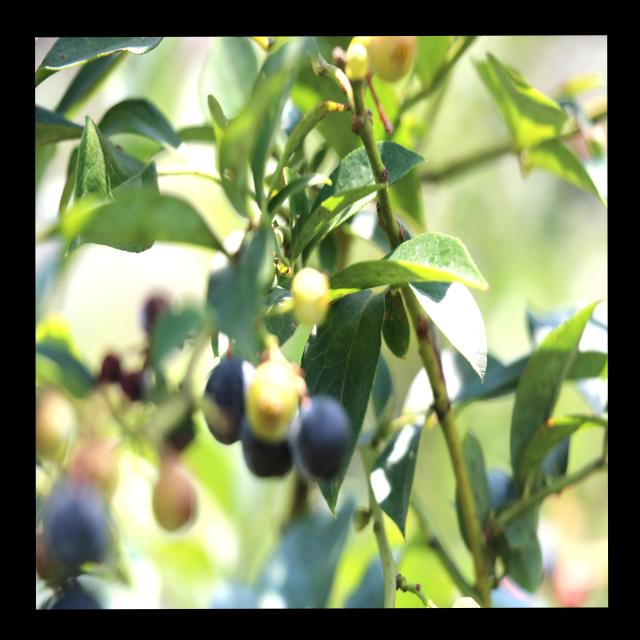blueberry: (48, 483, 112, 570), (201, 361, 258, 442), (295, 399, 351, 473), (239, 419, 297, 480)
blueberry-unripe: (289, 265, 336, 332)
